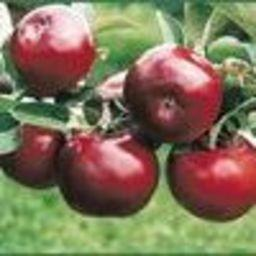apple: (125, 44, 223, 145), (7, 5, 97, 96), (57, 137, 159, 217), (166, 140, 256, 222)
